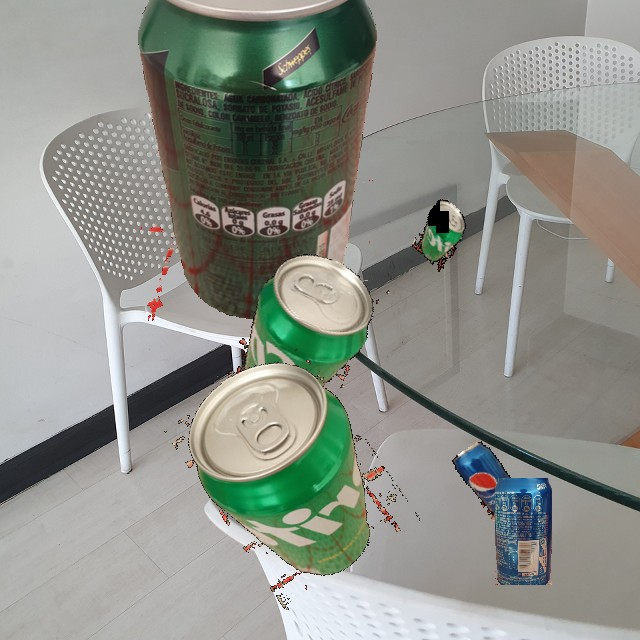pepsi: (448, 434, 530, 527), (495, 478, 552, 585)
schweppes: (138, 0, 377, 321)
sprite: (160, 334, 421, 612), (214, 238, 390, 440), (406, 193, 476, 273)
